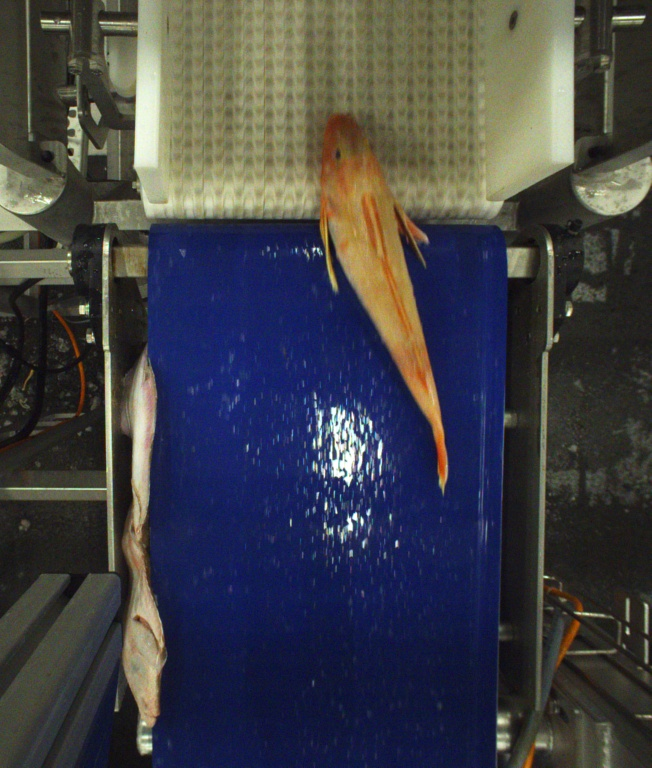GUU: (316, 114, 450, 495)
